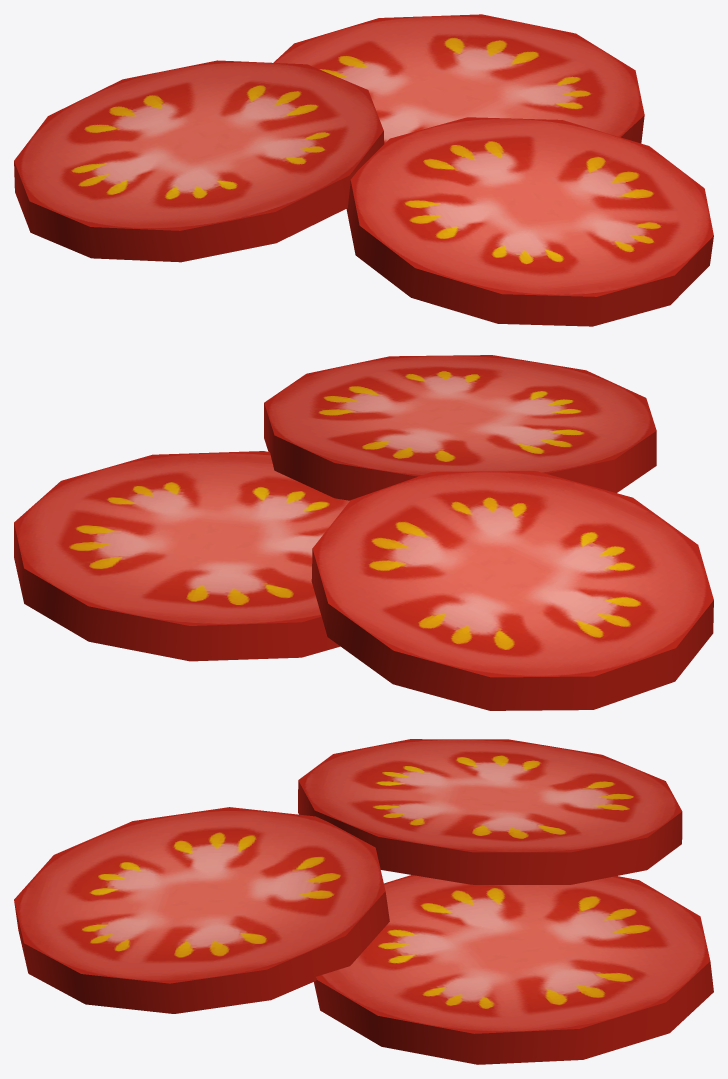
Rendered from Burger_Tomato.fbx.
3 renders of one model, top to bottom at view 1: azimuth 30°, elevation 25°; view 2: azimuth 150°, elevation 25°; view 3: azimuth 270°, elevation 25°, orthographic. The views are drawn at different scales.
Parts seen in each view (by area): view 1: Burger_Tomato; view 2: Burger_Tomato; view 3: Burger_Tomato.
Boxes of the visible parts, bbox=[...] form: Burger_Tomato: bbox=[14, 14, 713, 326]; Burger_Tomato: bbox=[14, 355, 713, 710]; Burger_Tomato: bbox=[14, 739, 713, 1064].
Size of the model in its own units: 0.6779 by 0.0875 by 0.6822.
Materials: 1 (1 with a texture image).
